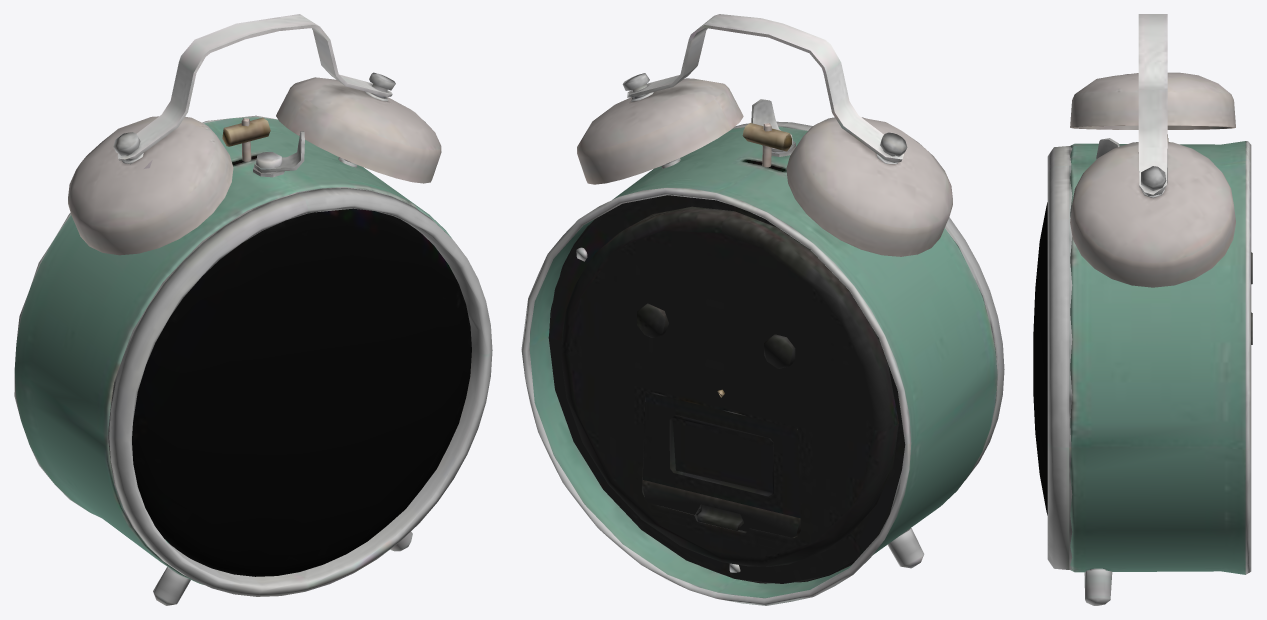
Rendered from alarm_clock_01.glb.
3 renders of one model, left to right at view 1: azimuth 30°, elevation 25°; view 2: azimuth 150°, elevation 25°; view 3: azimuth 270°, elevation 25°, orthographic. The views are drawn at different scales.
Parts seen in each view (by area): view 1: alarm_clock_01; view 2: alarm_clock_01; view 3: alarm_clock_01.
Boxes of the visible parts, x1,y1,x2,y2 form: alarm_clock_01: (14,14,492,605); alarm_clock_01: (521,14,1004,605); alarm_clock_01: (1033,14,1252,605).
Size of the model in its own units: 0.1314 by 0.1738 by 0.0662.
2 materials, 2 textured.
